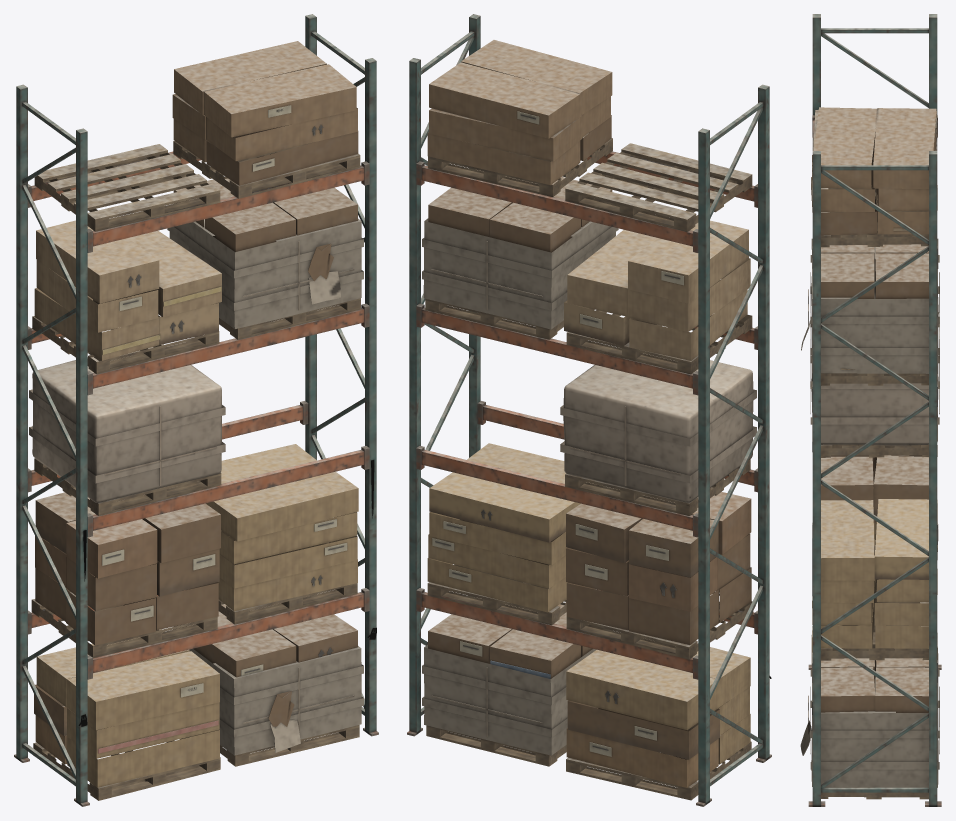
File: rack_bay_full.fbx
3 renders of one model, left to right at view 1: azimuth 30°, elevation 25°; view 2: azimuth 150°, elevation 25°; view 3: azimuth 270°, elevation 25°, orthographic. The views are drawn at different scales.
Visible parts, largest first — view 1: Body; view 2: Body; view 3: Body.
Boxes of the visible parts, x1,y1,x2,y2 form: Body: [14, 14, 378, 806]; Body: [407, 14, 771, 806]; Body: [800, 14, 941, 806].
Bounding box in the file's own units: 12.08 × 26 × 5.09.
Materials: 1 (1 with a texture image).
